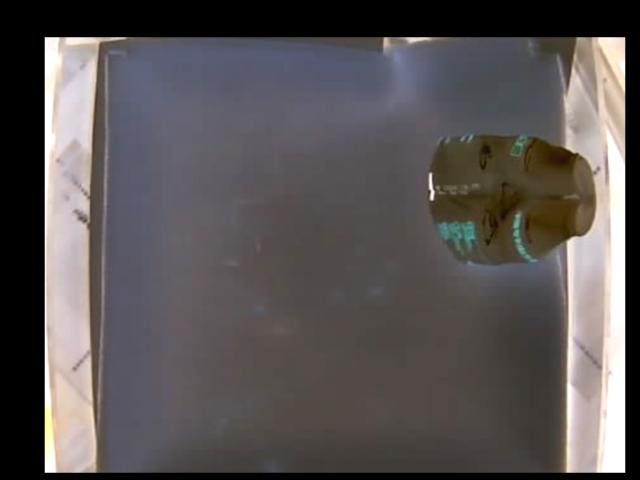Bottle: (428, 135, 598, 267)
